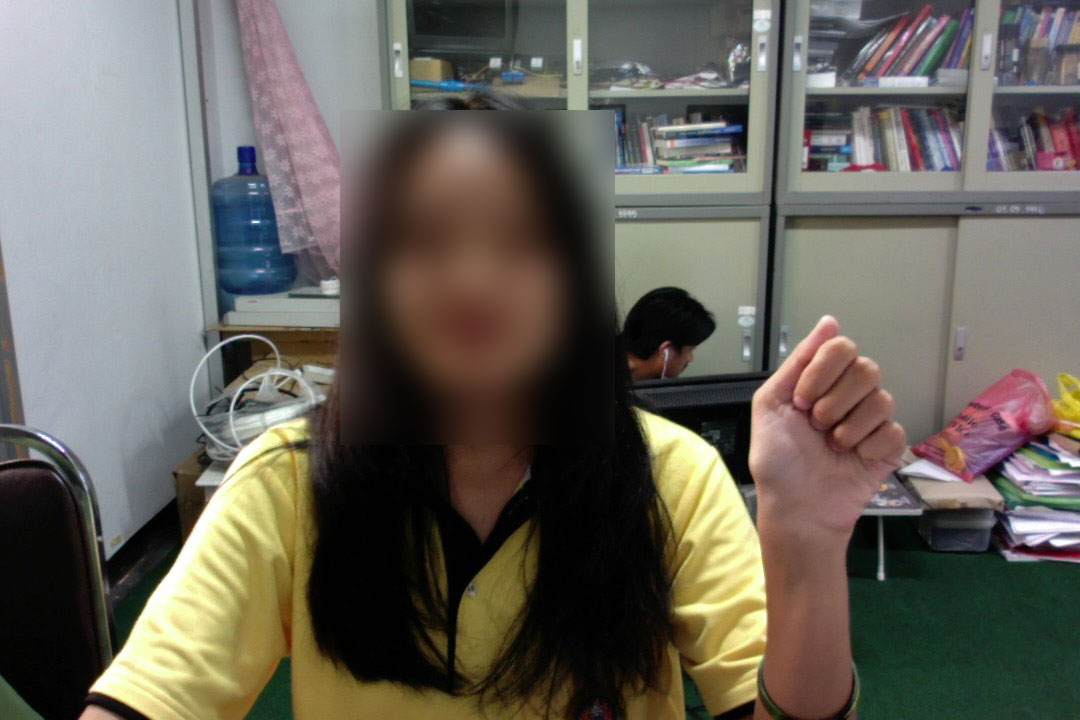or: (731, 311, 911, 547)
